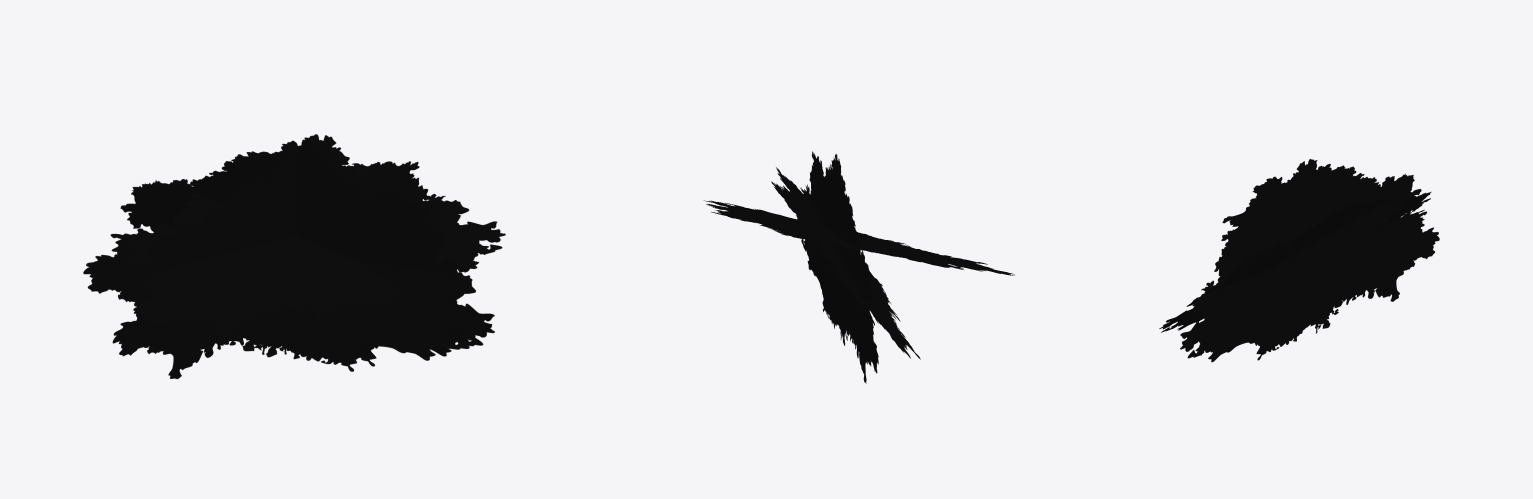
The model's file is TreeRoof.glb.
The picture shows the model from 3 angles, left to right: view 1: azimuth 30°, elevation 25°; view 2: azimuth 150°, elevation 25°; view 3: azimuth 270°, elevation 25°; orthographic projection. The views are drawn at different scales.
Visible parts, largest first — view 1: TreeRoof; view 2: TreeRoof; view 3: TreeRoof.
Boxes of the visible parts, bbox=[...] form: TreeRoof: bbox=[83, 134, 505, 378]; TreeRoof: bbox=[703, 151, 1014, 383]; TreeRoof: bbox=[1159, 159, 1439, 362].
Bounding box in the file's own units: 2.29 × 2 × 2.33.
1 material, 1 textured.
